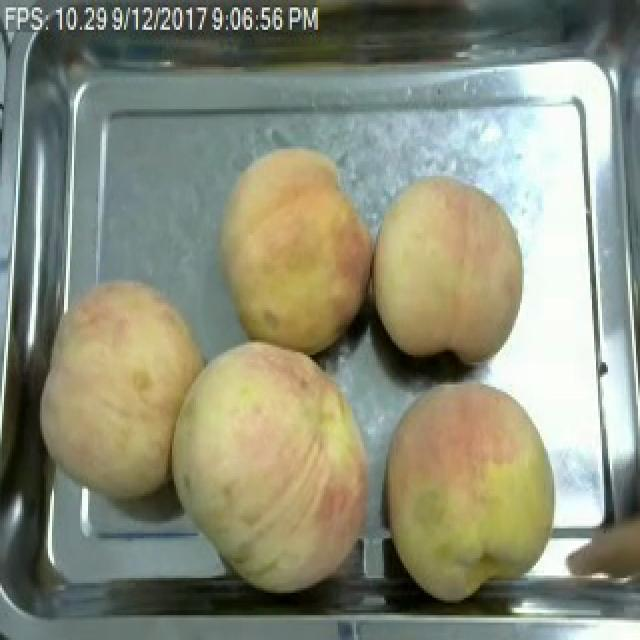Fruit: (156, 330, 386, 605), (368, 370, 568, 610), (26, 270, 218, 511), (210, 139, 378, 365), (364, 168, 534, 370)
